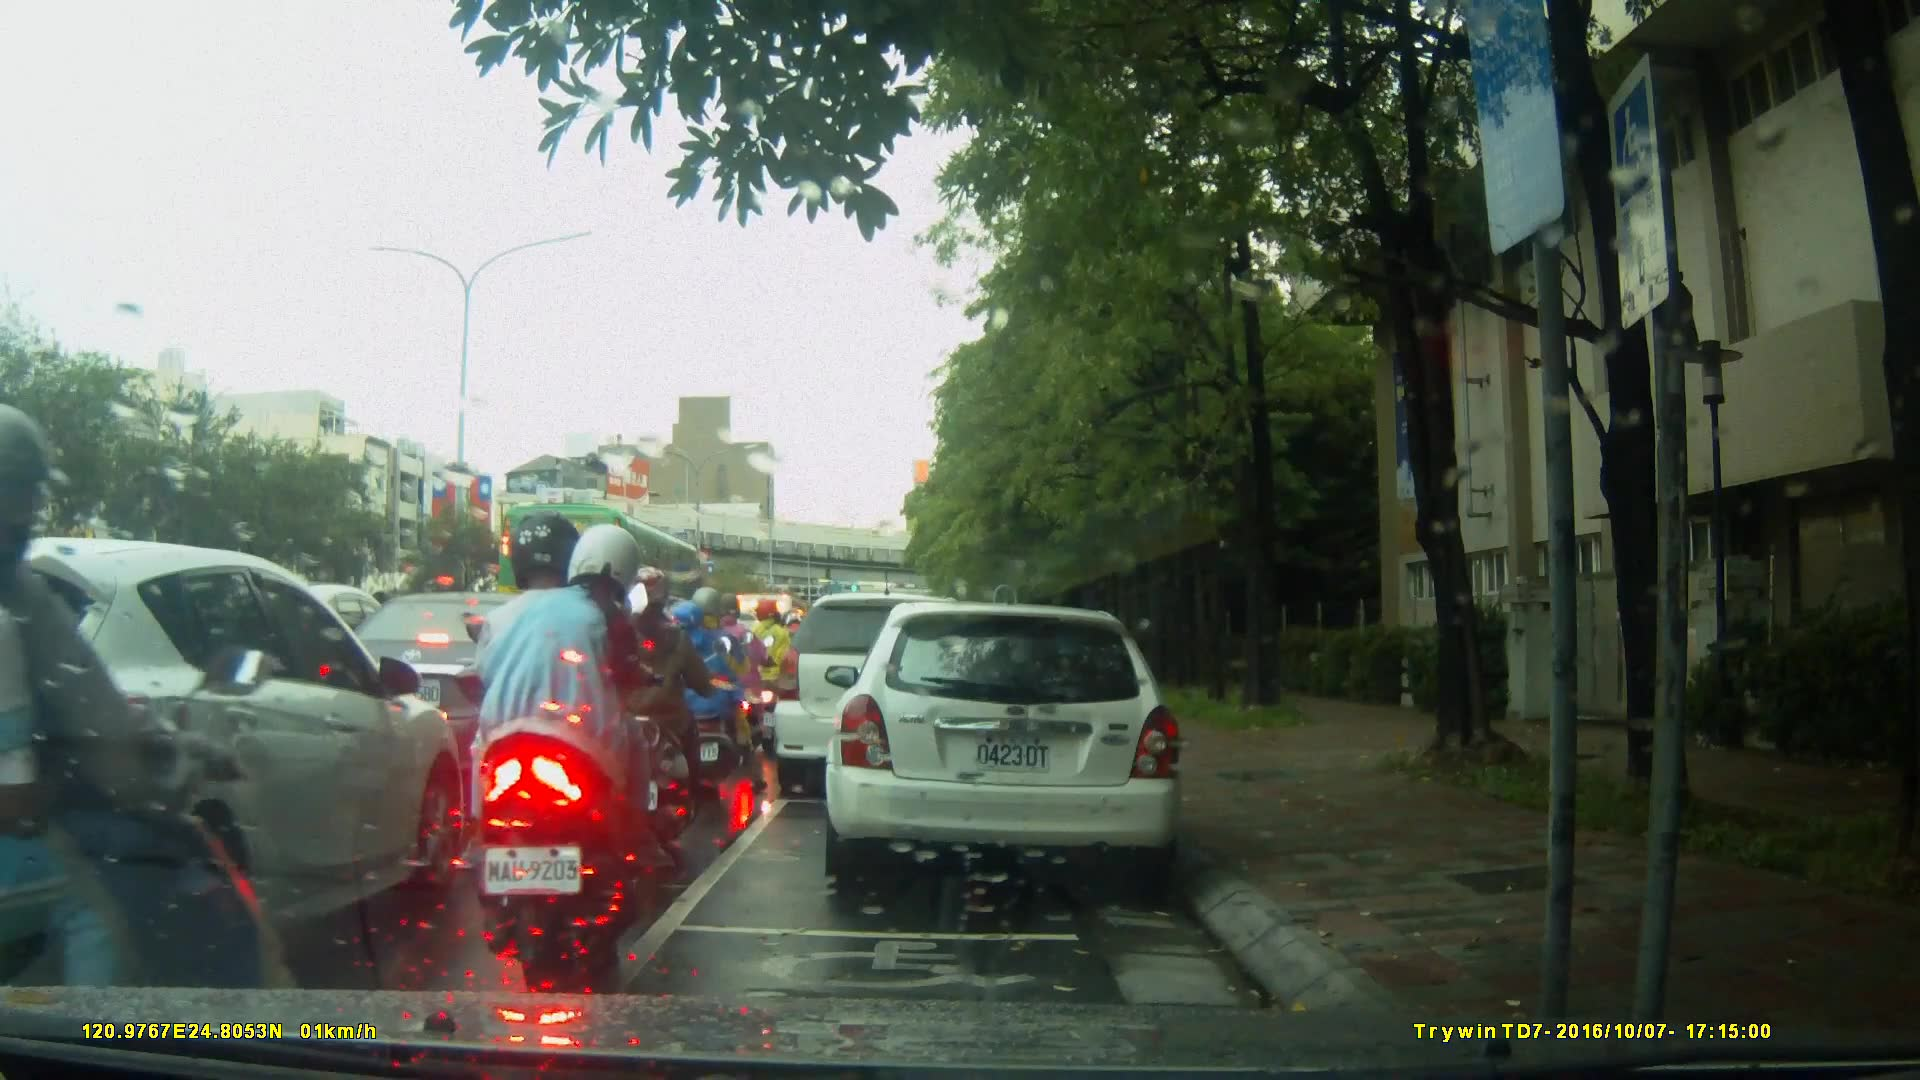rider: (1, 397, 318, 1080), (470, 511, 673, 981), (612, 570, 733, 846), (663, 588, 747, 793), (699, 598, 772, 764), (742, 598, 798, 744)
vehicle: (4, 536, 464, 988), (831, 592, 1196, 897), (312, 589, 629, 776), (771, 590, 999, 803), (497, 501, 710, 636)
